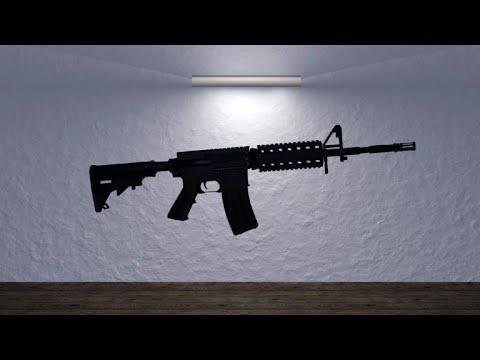larga: (87, 124, 418, 237)
